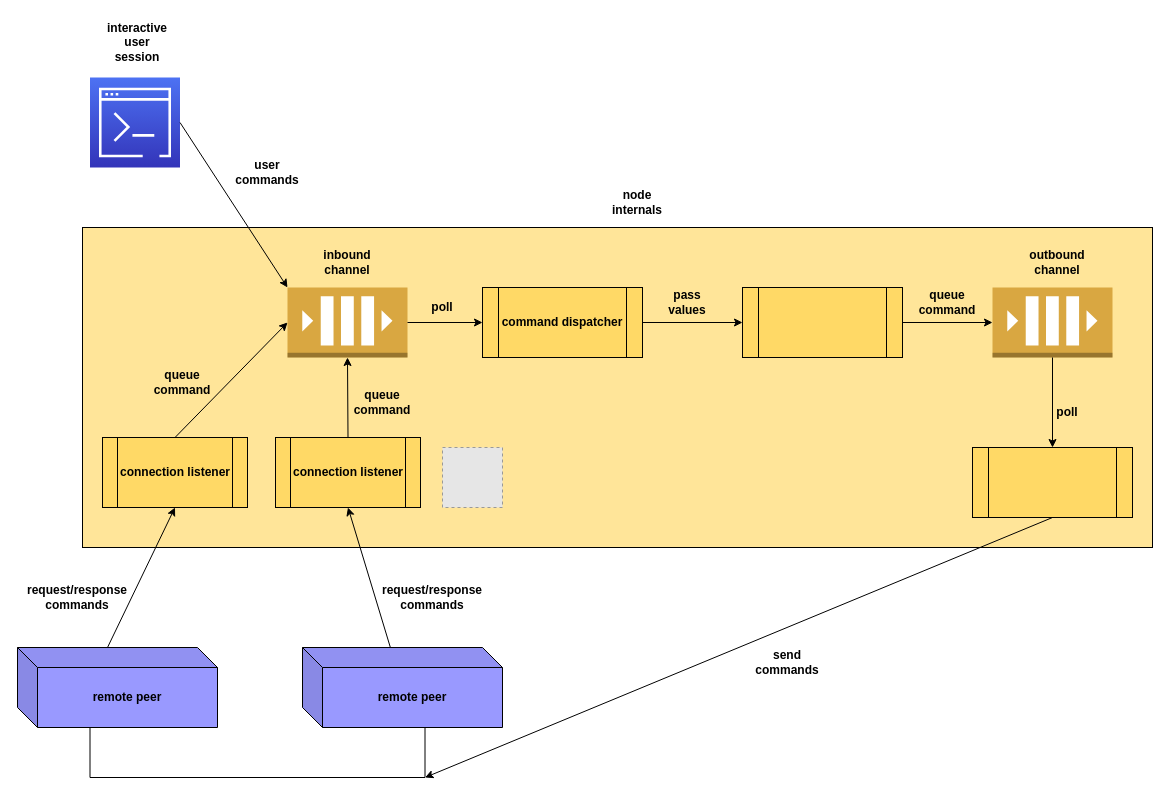
Image size: 1170x803. Some labels were removed from this diagram. Grey dashed boxes stand in for pictures. Here are the shapes that lost their labels. From the top down, the centre of each, then its label:
At point 822,322: "handler".
At point 1052,482: "command sender".
